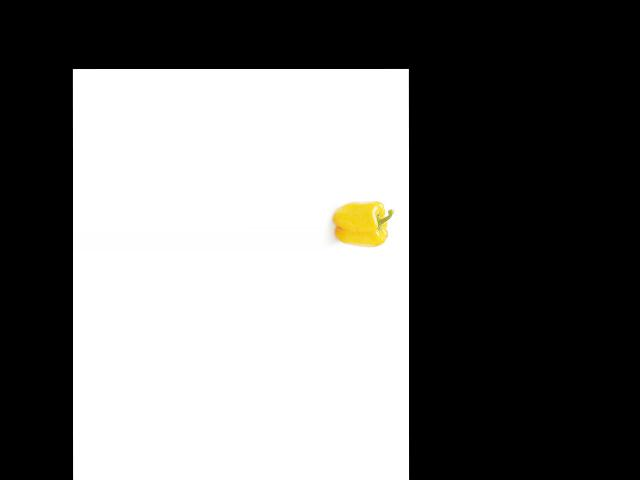bell_pepper: (332, 195, 396, 248)
